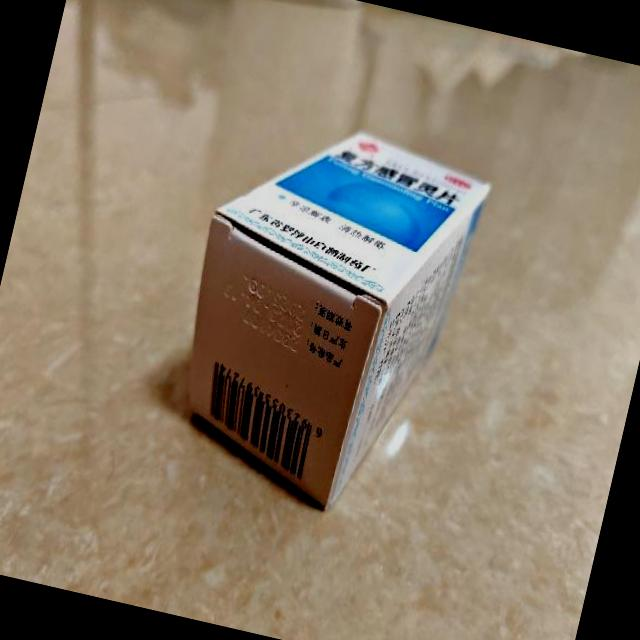box: (153, 104, 497, 530)
